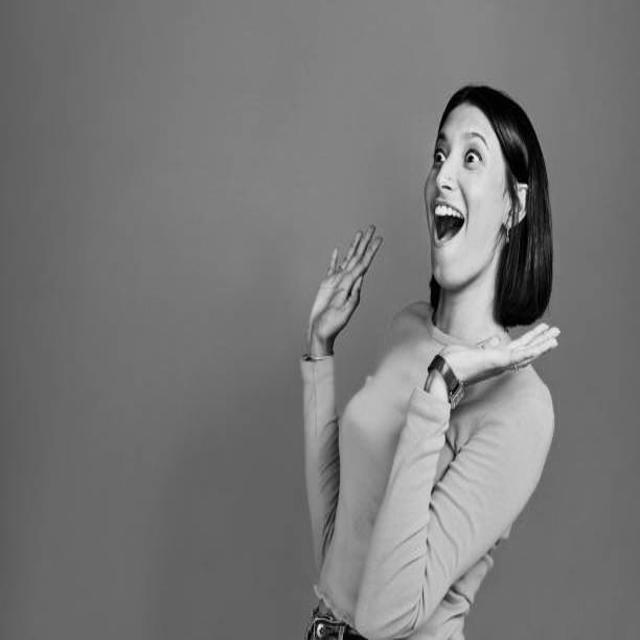Surprised: (422, 103, 510, 287)
